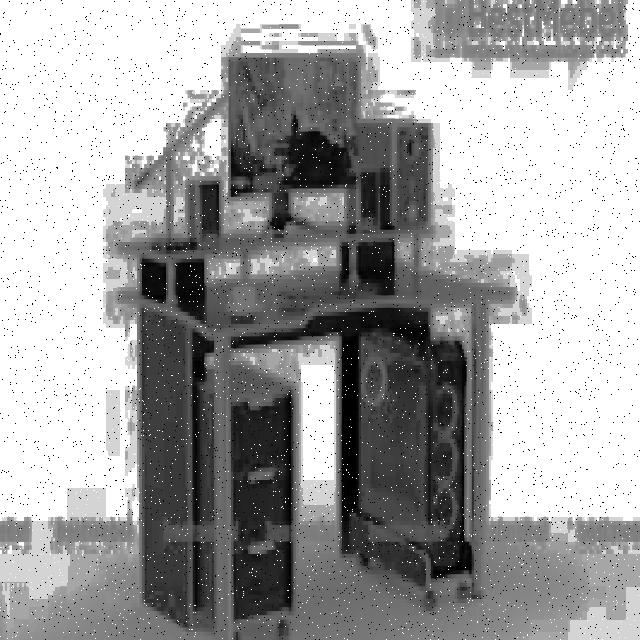table: (115, 221, 512, 640)
